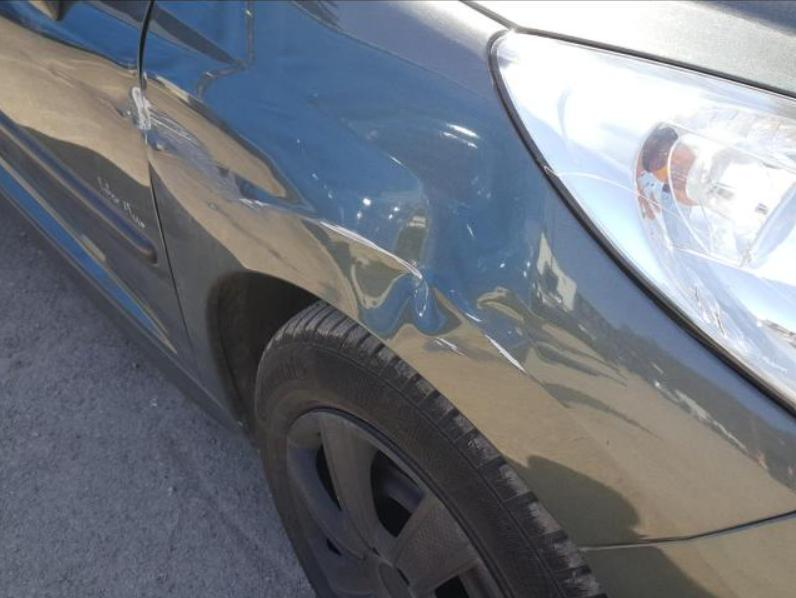Fender: (143, 0, 795, 546)
Front-bumper: (578, 514, 795, 597)
Front-door: (0, 0, 196, 380)
Front-wheel: (256, 301, 601, 597)
Headlight: (490, 30, 795, 410)
Hood: (464, 0, 795, 96)
Rocker-panel: (0, 190, 247, 443)
